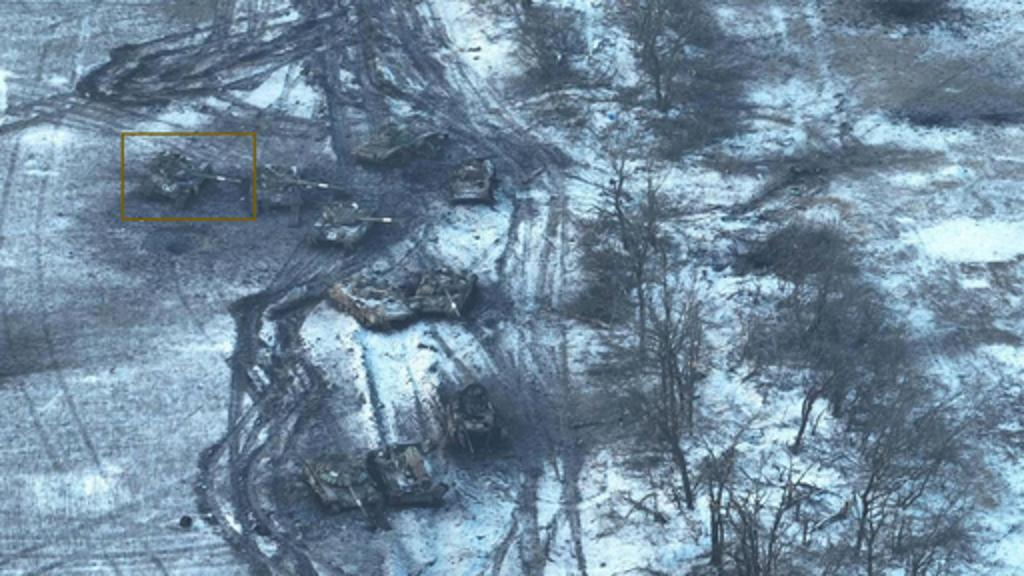APC-IFV: (364, 440, 450, 512), (322, 268, 404, 336), (440, 378, 508, 448), (446, 146, 506, 210), (356, 114, 434, 162)
TANK: (136, 144, 246, 212), (292, 444, 380, 528), (250, 156, 342, 224), (306, 198, 398, 254), (408, 254, 474, 328)
